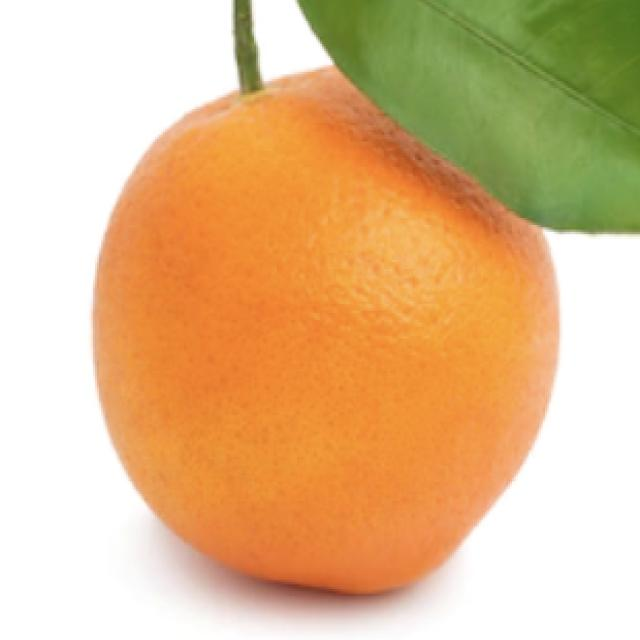orange: (81, 45, 583, 610)
